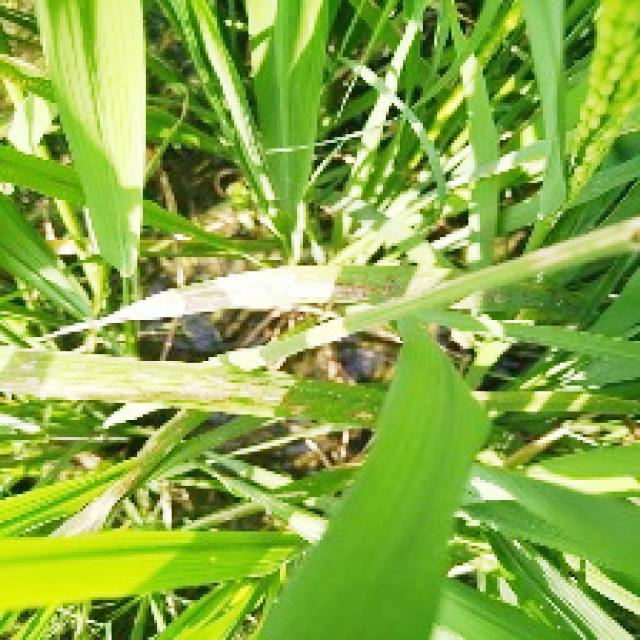health: (380, 424, 640, 640)
